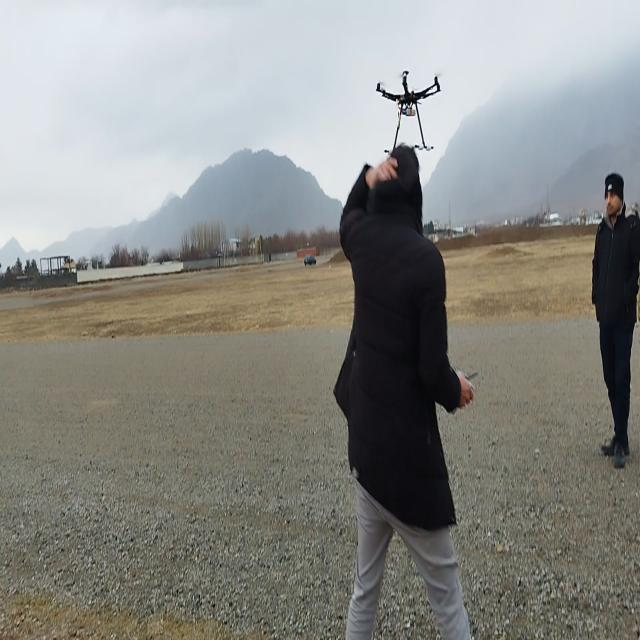drone: (376, 65, 445, 142)
